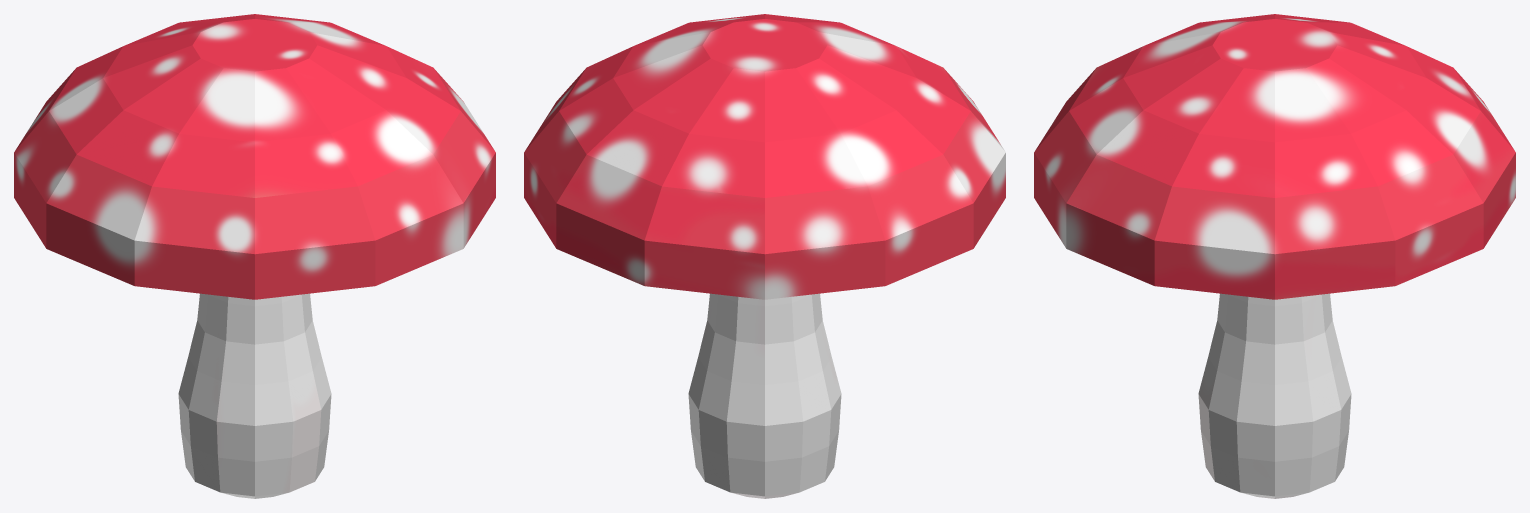
Rendered from shroom.fbx.
3 views of the same model, side by side, from view 1: azimuth 30°, elevation 25°; view 2: azimuth 150°, elevation 25°; view 3: azimuth 270°, elevation 25° (orthographic).
Parts seen in each view (by area): view 1: Cylinder; view 2: Cylinder; view 3: Cylinder.
Boxes of the visible parts, x1=… form: Cylinder: x1=14, y1=14, x2=495, y2=498; Cylinder: x1=524, y1=14, x2=1005, y2=498; Cylinder: x1=1034, y1=14, x2=1515, y2=498.
Size of the model in its own units: 527 by 529 by 527.
Materials: 1 (1 with a texture image).
